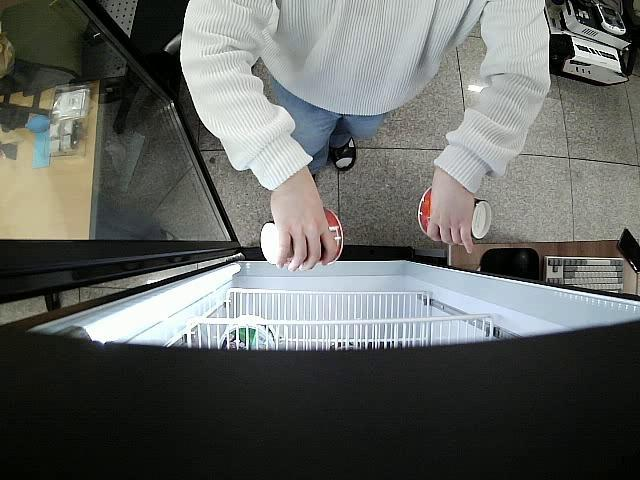02_shinRamen_S: (260, 208, 344, 267), (418, 184, 492, 240)
